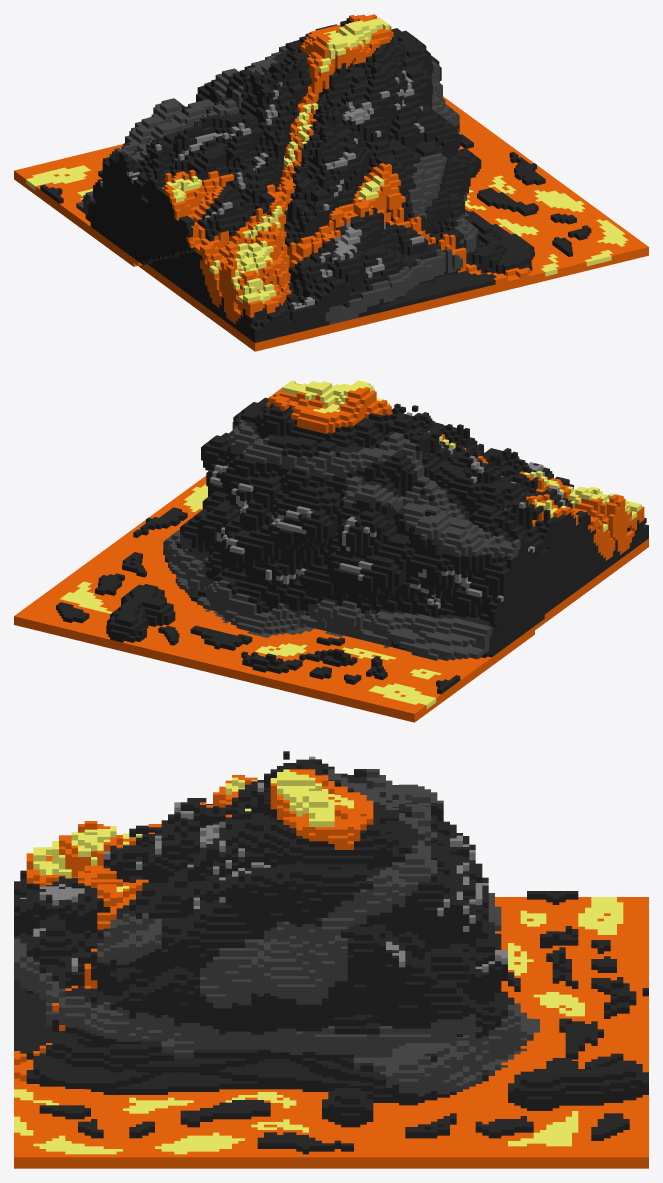
Rendered from Lava_stuff-29.obj.
3 renders of one model, top to bottom at view 1: azimuth 30°, elevation 25°; view 2: azimuth 150°, elevation 25°; view 3: azimuth 270°, elevation 25°, orthographic. The views are drawn at different scales.
Size of the model in its own units: 19.2 by 8.8 by 19.8.
1 material, 1 textured.
